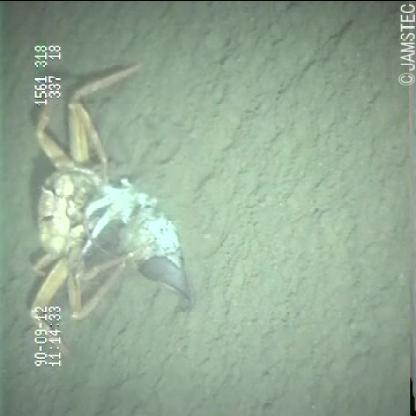Bio: (28, 55, 202, 360)
